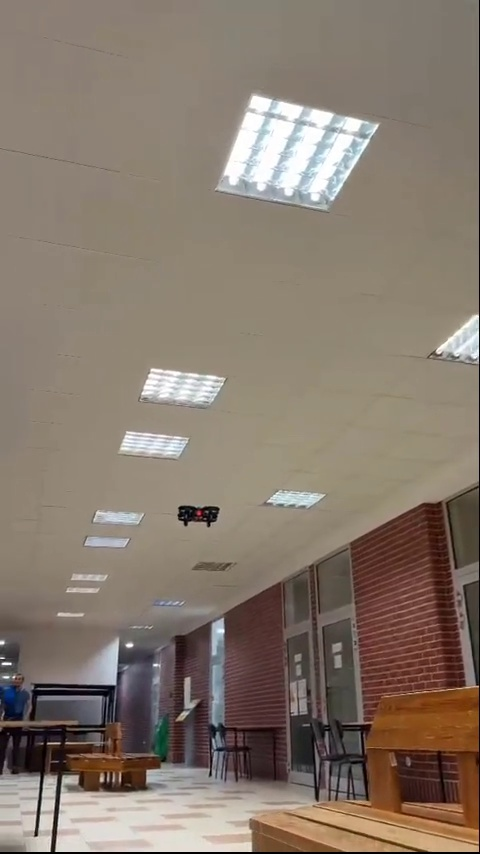drone: (175, 503, 220, 517)
no vest: (7, 661, 31, 722)
